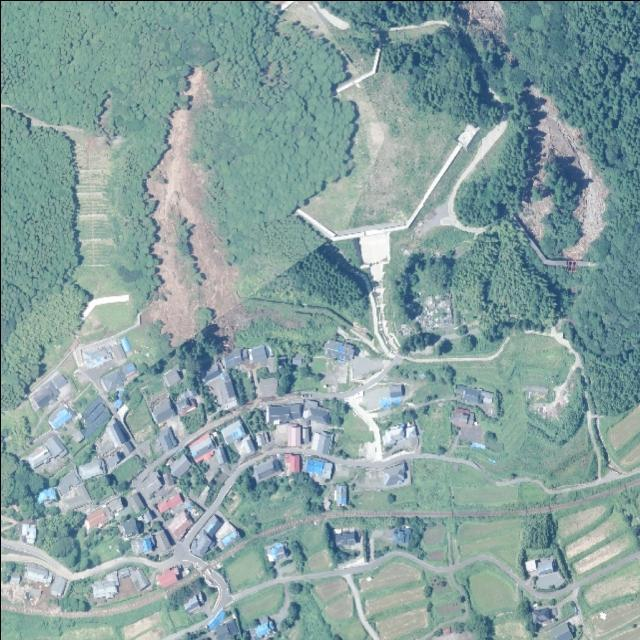landslide: (145, 65, 238, 342), (529, 84, 608, 259), (519, 189, 556, 241), (460, 0, 503, 42)
